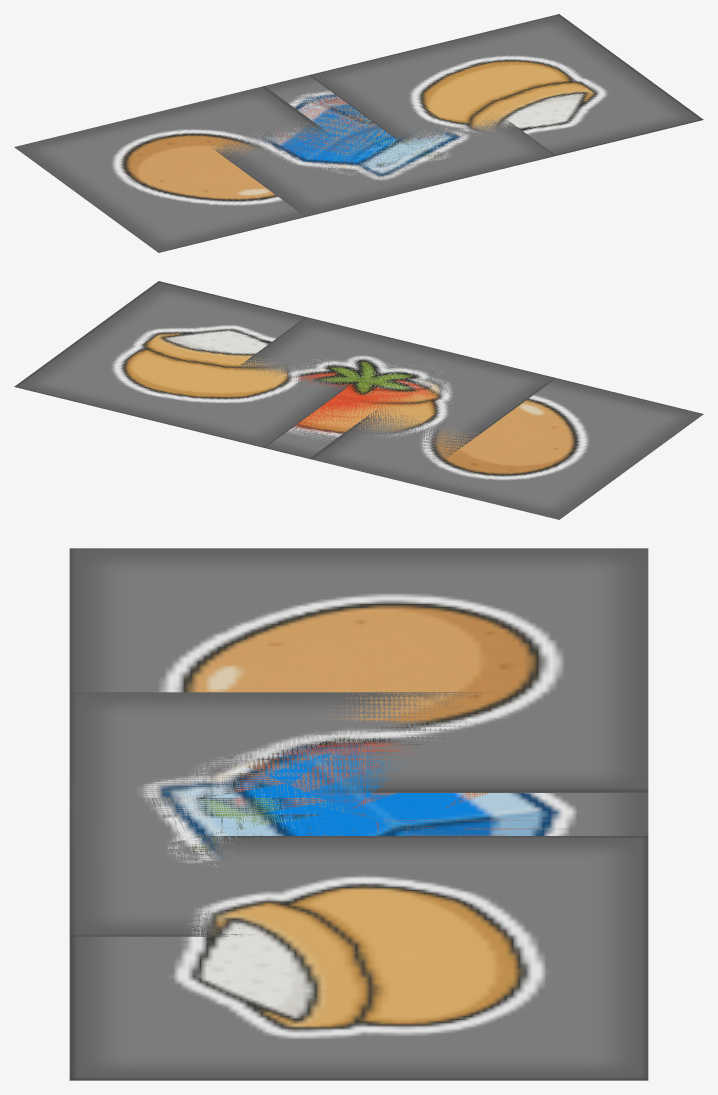
Rendered from machines_ic.glb.
3 renders of one model, top to bottom at view 1: azimuth 30°, elevation 25°; view 2: azimuth 150°, elevation 25°; view 3: azimuth 270°, elevation 25°, orthographic. The views are drawn at different scales.
Parts seen in each view (by area): view 1: flour_milk_ic, milk_ic, tomato_ic, flour_ic; view 2: flour_milk_ic, tomato_ic, flour_ic, milk_ic; view 3: flour_milk_ic, milk_ic, tomato_ic, flour_ic.
Part boxes in pixels (x1=…): flour_milk_ic: x1=14, y1=14, x2=703, y2=252; milk_ic: x1=212, y1=75, x2=553, y2=216; tomato_ic: x1=217, y1=75, x2=556, y2=216; flour_ic: x1=266, y1=75, x2=505, y2=210; flour_milk_ic: x1=14, y1=281, x2=703, y2=519; tomato_ic: x1=238, y1=317, x2=554, y2=457; flour_ic: x1=265, y1=322, x2=555, y2=476; milk_ic: x1=248, y1=321, x2=511, y2=454; flour_milk_ic: x1=69, y1=548, x2=648, y2=1080; milk_ic: x1=69, y1=692, x2=648, y2=935; tomato_ic: x1=69, y1=692, x2=647, y2=936; flour_ic: x1=69, y1=692, x2=617, y2=936.
Size of the model in its own units: 3.7 by 2.38e-07 by 1.7.
1 material, 1 textured.
